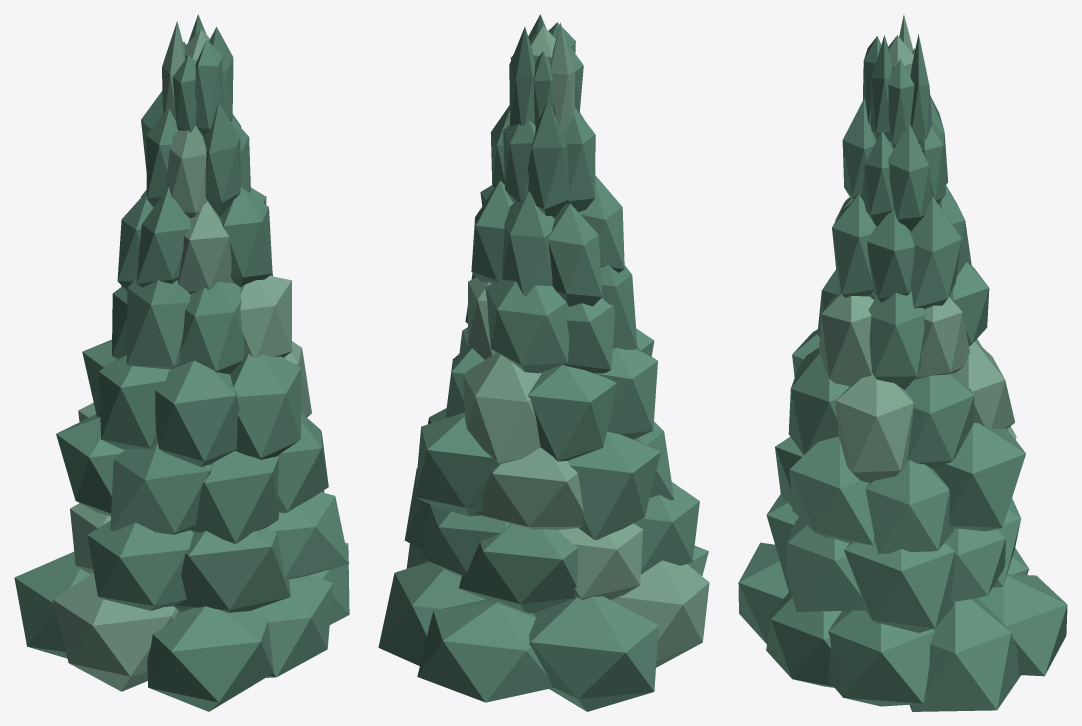
Rendered from pine_tall_b.glb.
3 views of the same model, side by side, from view 1: azimuth 30°, elevation 25°; view 2: azimuth 150°, elevation 25°; view 3: azimuth 270°, elevation 25° (orthographic).
Visible parts, largest first — view 1: pine_tall_b; view 2: pine_tall_b; view 3: pine_tall_b.
Part boxes in pixels (box(x1,y1,x2,y2)): pine_tall_b: box(14, 14, 349, 711); pine_tall_b: box(378, 14, 709, 711); pine_tall_b: box(738, 15, 1067, 711).
Bounding box in the file's own units: 3.7 × 8.3 × 3.66.
